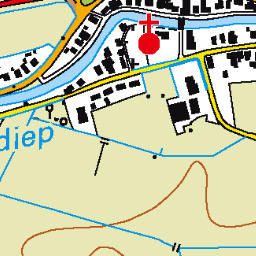church: (135, 12, 163, 56)
